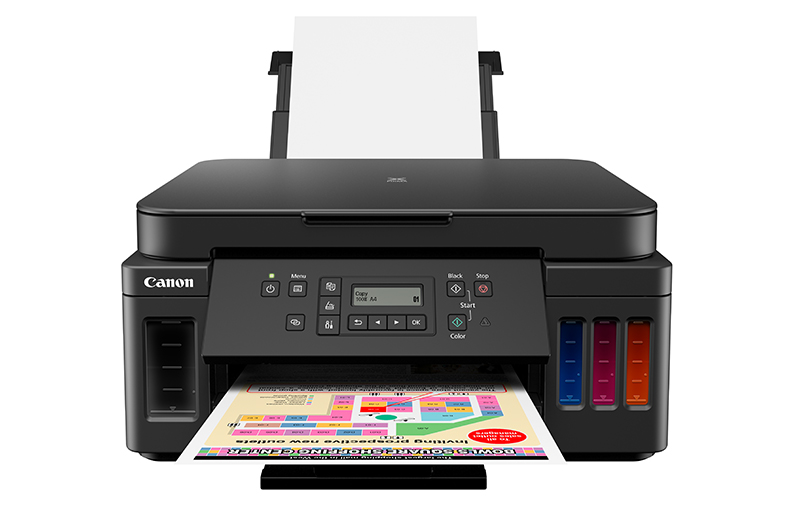printer: (118, 49, 674, 496)
